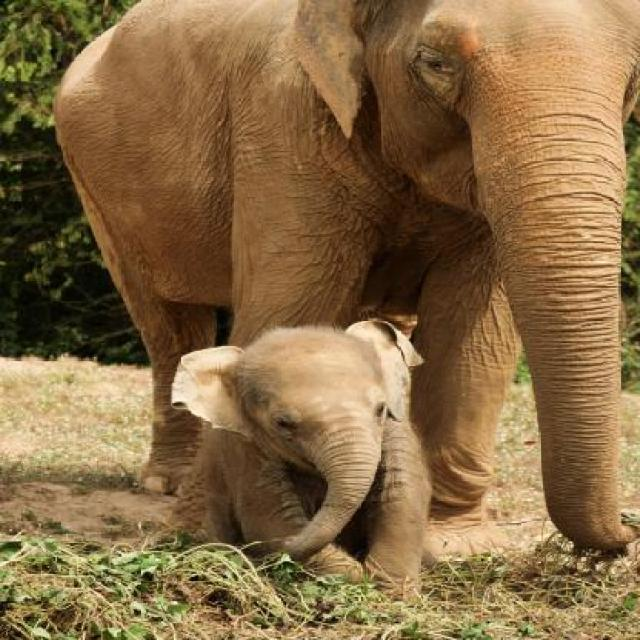Elephant: (59, 0, 638, 575), (166, 303, 463, 588)
